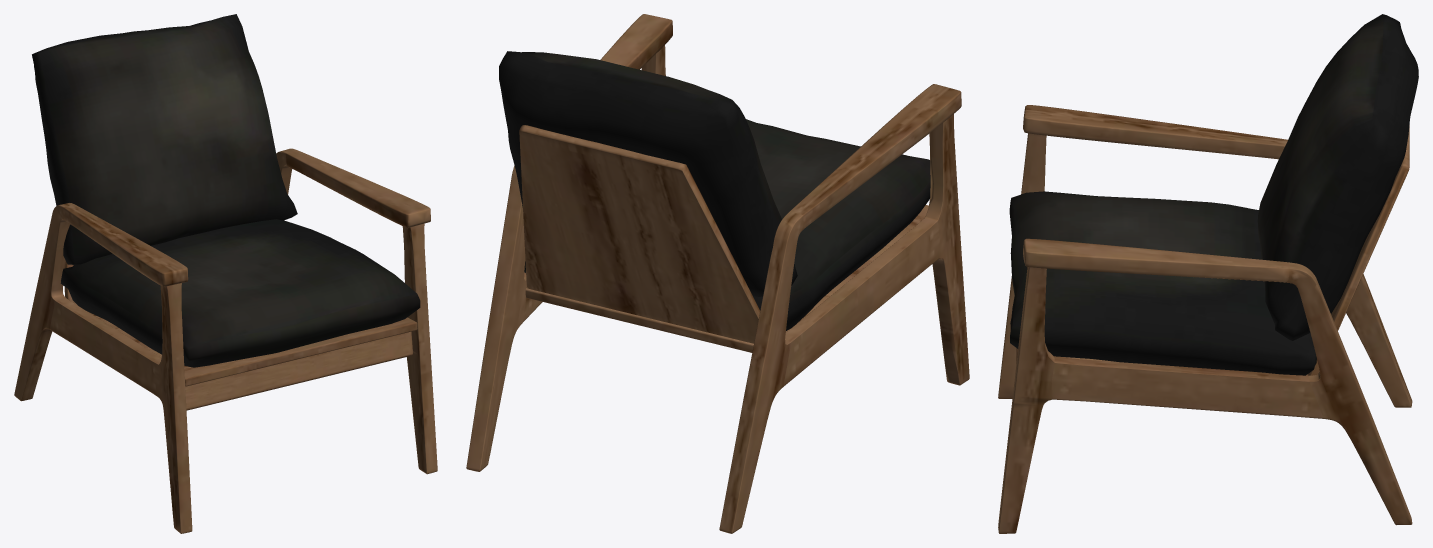
The model's file is ph-armchair-leather-oak-low.glb.
3 views of the same model, side by side, from view 1: azimuth 30°, elevation 25°; view 2: azimuth 150°, elevation 25°; view 3: azimuth 270°, elevation 25° (orthographic). The views are drawn at different scales.
Parts seen in each view (by area): view 1: modern_arm_chair_01; view 2: modern_arm_chair_01; view 3: modern_arm_chair_01.
Boxes of the visible parts, <box> form: modern_arm_chair_01: <box>14,14,437,533</box>; modern_arm_chair_01: <box>466,14,969,533</box>; modern_arm_chair_01: <box>998,14,1418,533</box>.
Size of the model in its own units: 0.8203 by 1.02 by 0.9866.
Materials: 2 (2 with a texture image).
